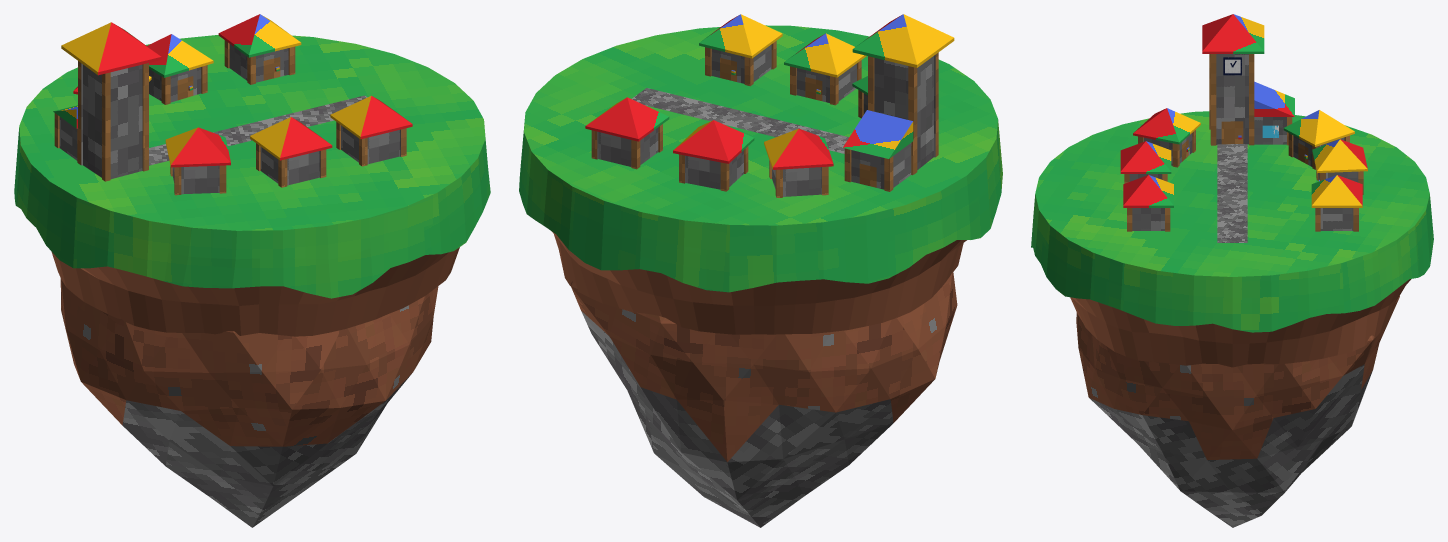
The model's file is main_menu_map.glb.
3 renders of one model, left to right at view 1: azimuth 30°, elevation 25°; view 2: azimuth 150°, elevation 25°; view 3: azimuth 270°, elevation 25°, orthographic. The views are drawn at different scales.
Parts seen in each view (by area): view 1: Island, Cube.003, Cube.010, House.001, House, House.002, Cube.009, Cube.007, Plane, Cube.004; view 2: Island, Cube.003, Cube.010, House, Cube.009, House.001, Cube.008, Plane, Cube.007, Cube.006, Cube.004; view 3: Island, Cube.003, Plane, Cube.010, House, House.002, Cube.007, Cube.008, Cube.009, House.001, Cube.004, Cube.006.
Boxes of the visible parts, x1,y1,x2,y2 form: Island: (14, 35, 490, 527); Cube.003: (78, 61, 148, 181); Cube.010: (218, 14, 301, 84); House.001: (250, 117, 332, 187); House: (330, 95, 412, 166); House.002: (165, 127, 230, 195); Cube.009: (147, 34, 213, 104); Cube.007: (61, 22, 161, 75); Plane: (149, 95, 367, 165); Cube.004: (54, 113, 77, 162); Island: (519, 25, 1002, 527); Cube.003: (868, 52, 938, 174); Cube.010: (585, 97, 669, 169); House: (699, 14, 782, 86); Cube.009: (673, 120, 754, 191); House.001: (784, 33, 866, 105); Cube.008: (764, 128, 833, 197); Plane: (632, 88, 848, 153); Cube.007: (852, 14, 954, 67); Cube.006: (843, 110, 913, 158); Cube.004: (844, 139, 913, 191); Island: (1031, 111, 1433, 527); Cube.003: (1209, 54, 1254, 145); Plane: (1217, 144, 1247, 242); Cube.010: (1311, 175, 1362, 231); House: (1123, 175, 1173, 231); House.002: (1133, 108, 1200, 167); Cube.007: (1202, 14, 1264, 53); Cube.008: (1283, 110, 1354, 169); Cube.009: (1312, 139, 1367, 194); House.001: (1120, 141, 1171, 183); Cube.004: (1249, 116, 1292, 145); Cube.006: (1254, 81, 1294, 116).
Size of the model in its own units: 79.26 by 99.02 by 79.29.
Materials: 9 (9 with a texture image).
